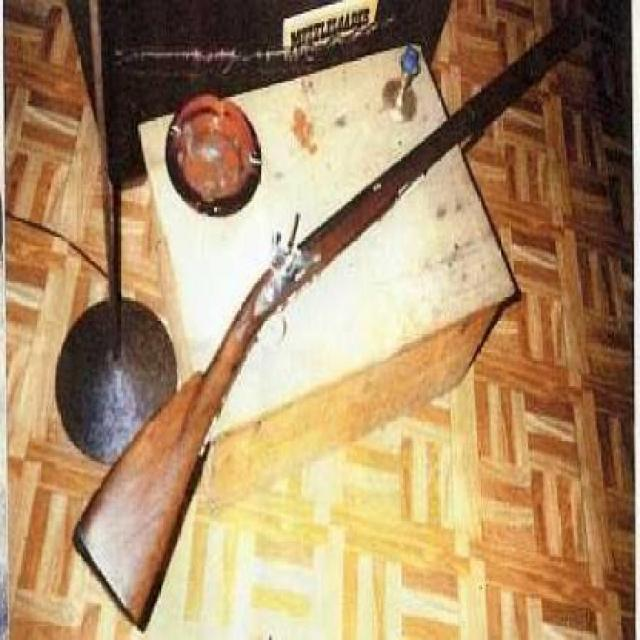weapon: (73, 15, 584, 629)
